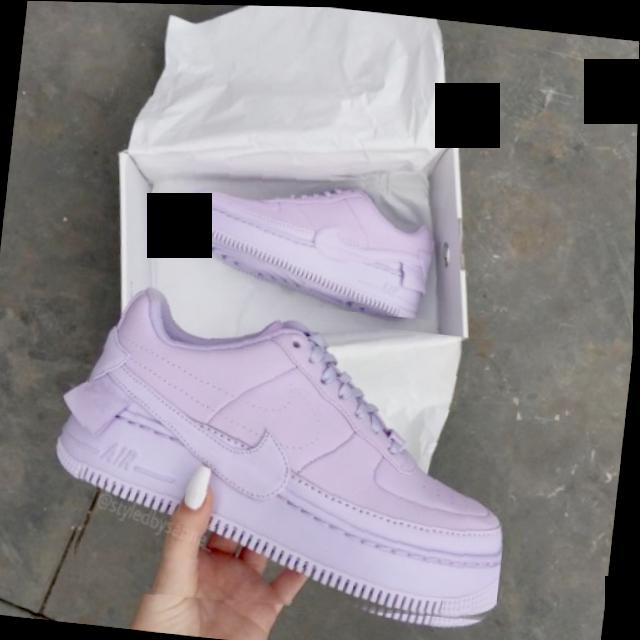shoe: (64, 295, 527, 632), (165, 152, 448, 318)
